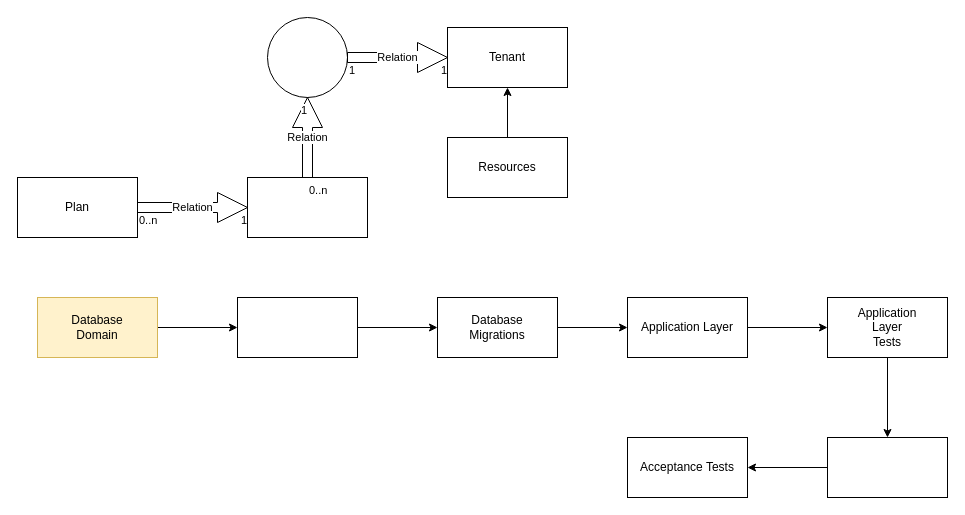
Image size: 965x515. Some labels were removed from this diagram. Each missing label, with the centre of its shape:
"Api Layer" belongs at [887,467].
"Database Domain Tests" belongs at [297,327].
"Organization" belongs at [307,57].
"Subscription" belongs at [307,207].
